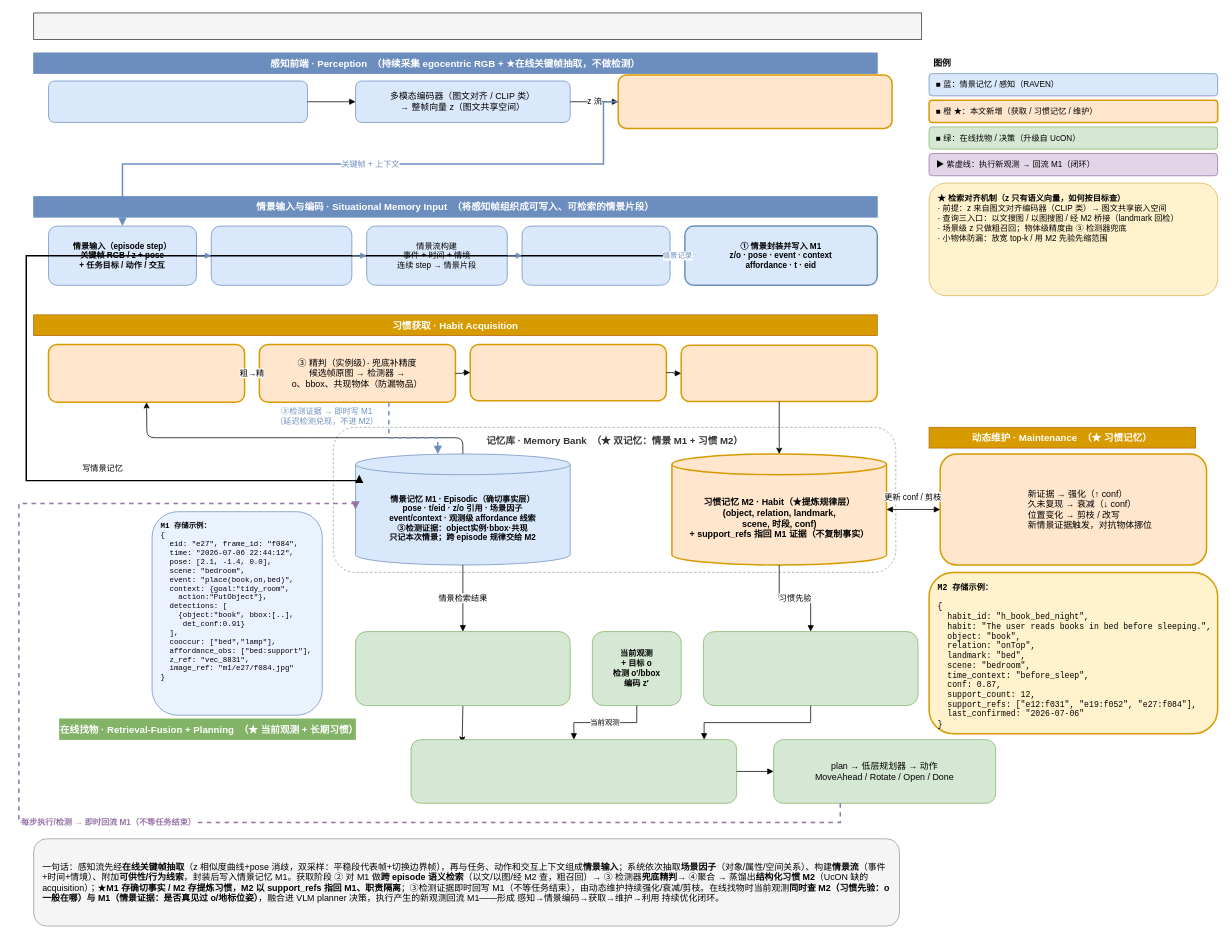
Some shapes in this 1231 by 939 pixel diagram are drawn without their labels. The centre of each missing label's shape, as x and y in pixels:
"② 粗筛 = 跨 episode 语义检索 以文 / 以图 / 经 M2 查 M1 → 召回候选 高召回 · 可粗（精度交 ③）" goes at pixel 146 373.
"④ 聚合（跨 episode） 统计 (relation, landmark, time) → 置信度 conf" goes at pixel 568 372.
"⑤ 归纳 代表帧 → VLM → 结构化习惯元组" goes at pixel 779 373.
"★ 在线关键帧抽取（采集时） 持续算 z 相似度曲线 + pose 辅助消歧 平稳段代表帧 + 场景切换边界帧 仅关键帧的 o 落盘（z 仍全量保真）" goes at pixel 754 101.
"双记忆家居导航系统 感知情景记忆 M1 + 结构化习惯记忆 M2 · 写入构建 ↓ / 在线找物 ↑ 闭环 v0.4" goes at pixel 477 26.
"可供性规则 / 行为线索 智能体—动作—物体 功能约束与结果" goes at pixel 595 255.
"场景因子抽取 对象 · 属性 空间关系 · 场所语义" goes at pixel 281 255.
"查习惯记忆 M2 目标 o 的 (relation, landmark, time) 先验 + 间接地标习惯 按 conf 加权" goes at pixel 810 668.
"查情景记忆 M1（agentic 迭代） 见过 o？地标在哪个位姿？ text / time / position / image 检索" goes at pixel 462 668.
"融合：当前观测 + 习惯先验 + 情景证据 → prompt → VLN （证据不足则迭代检索）" goes at pixel 573 771.
"采集 egocentric RGB 帧 （探索 / 日常服务持续流）" goes at pixel 177 101.
